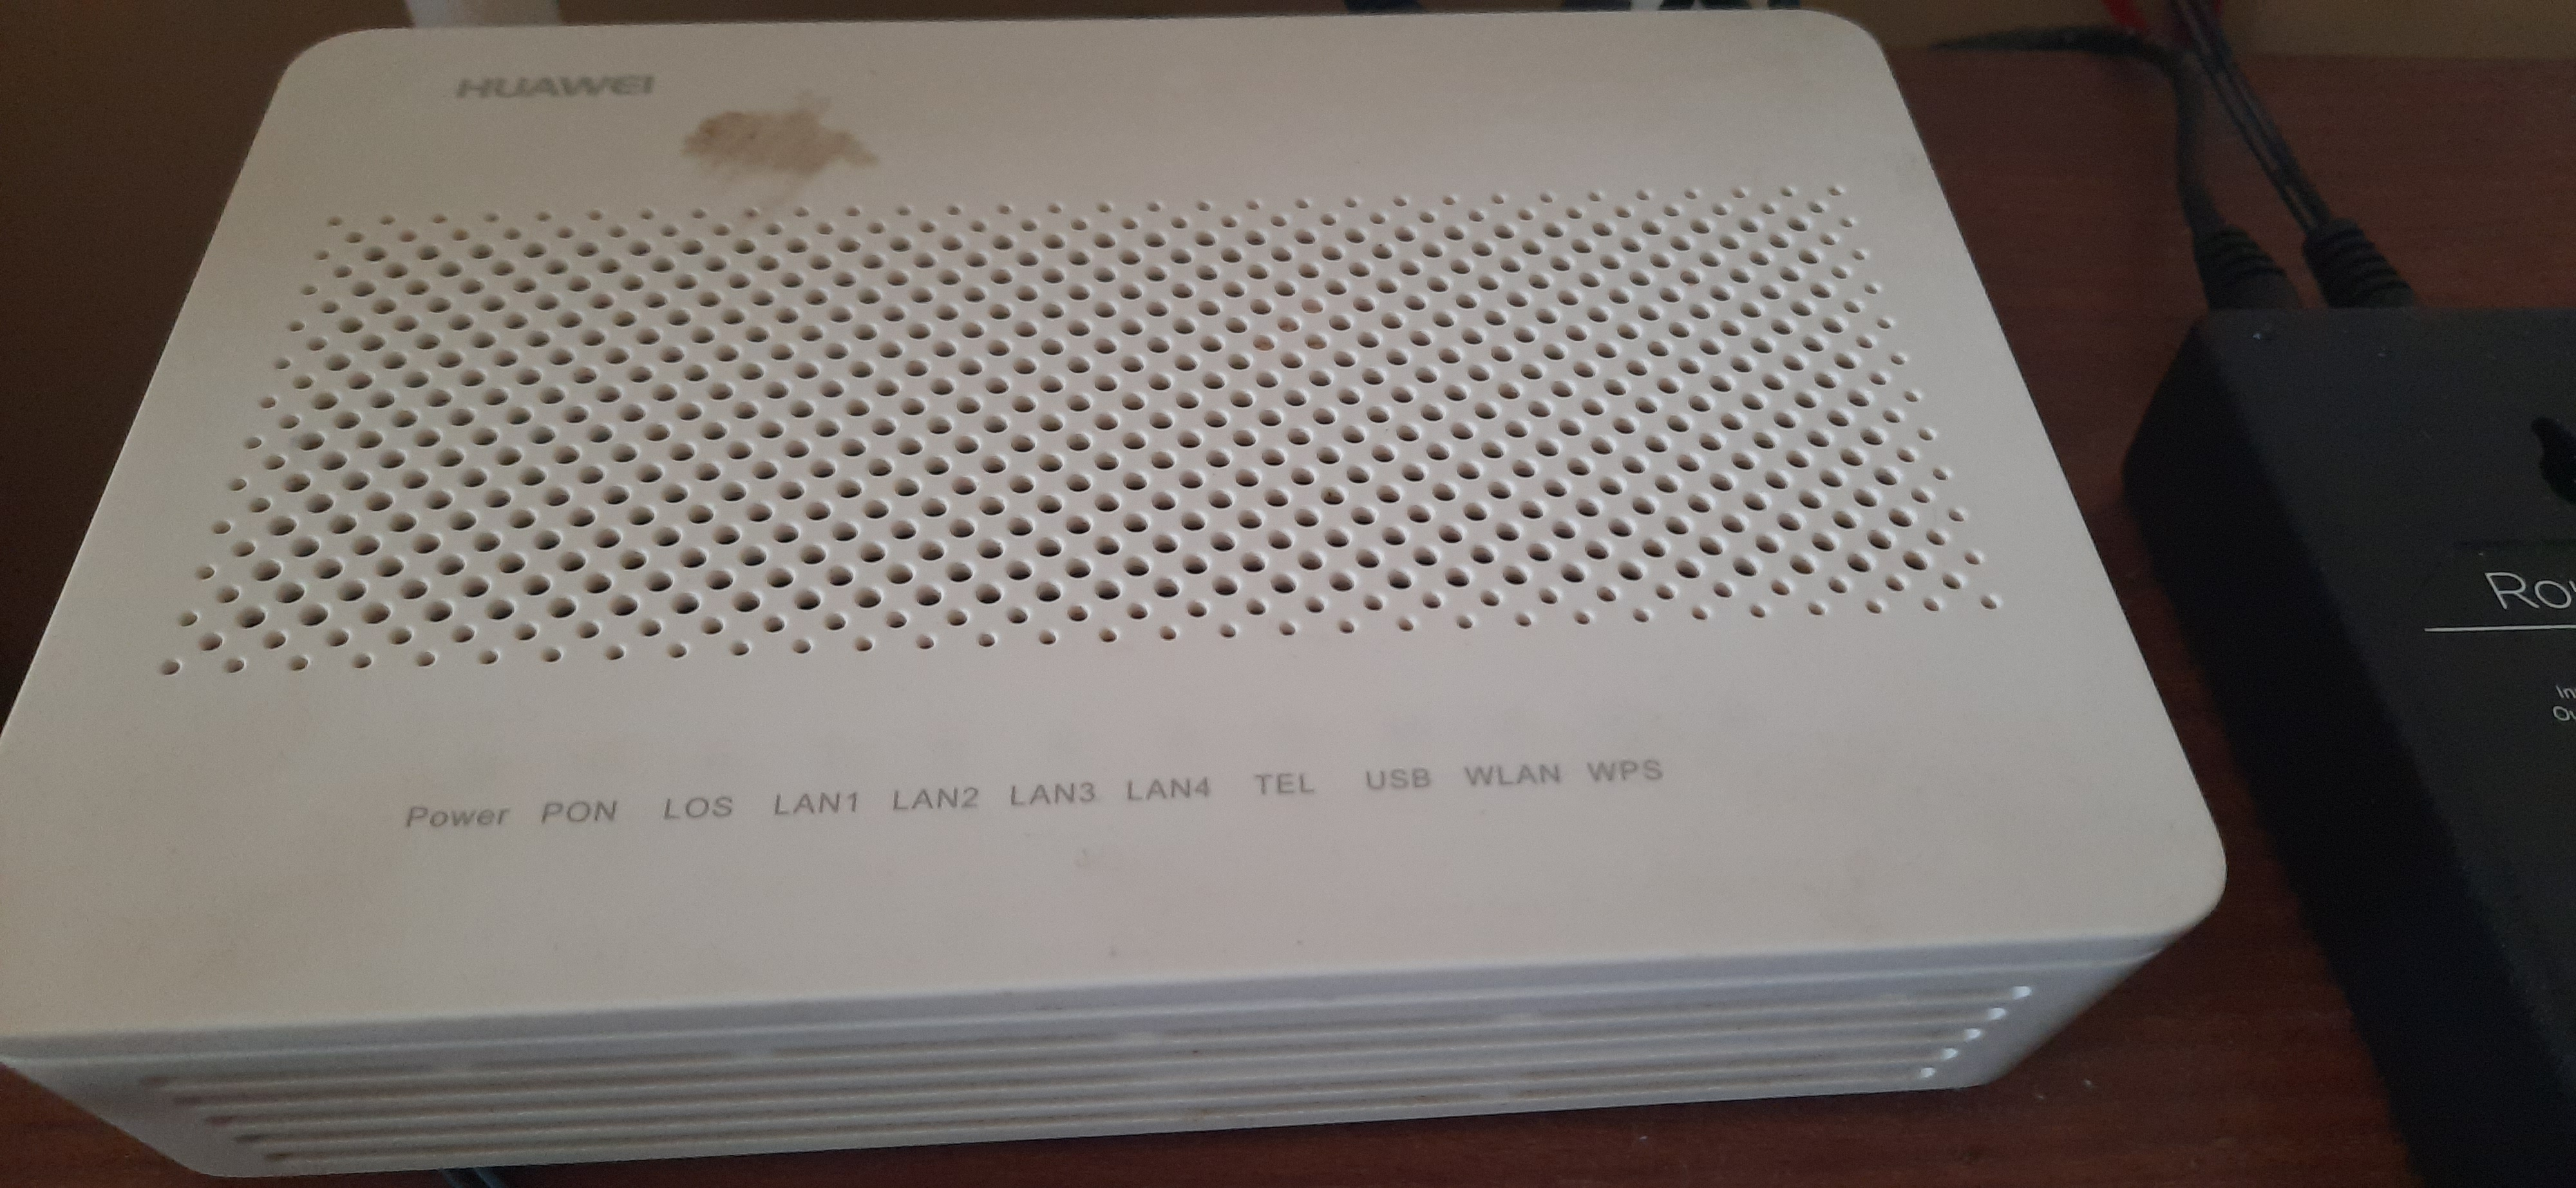WhiteWireIssue: (284, 728, 1998, 897)
